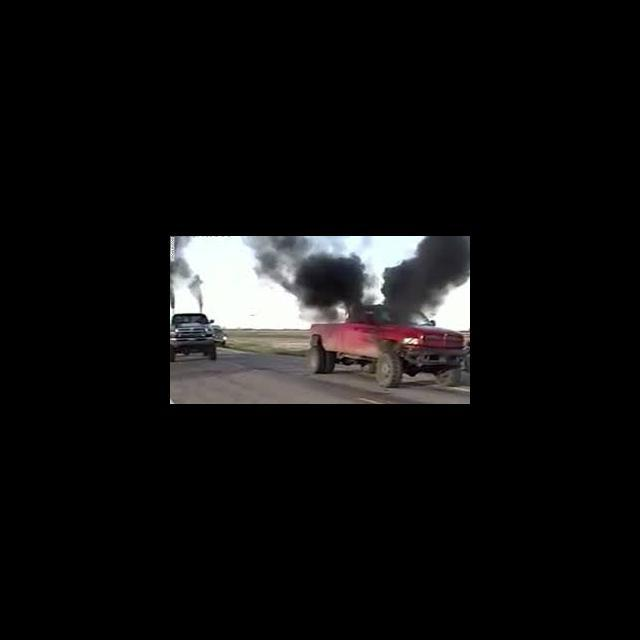Smoke: (250, 236, 369, 321), (384, 237, 470, 320), (175, 238, 204, 312)
